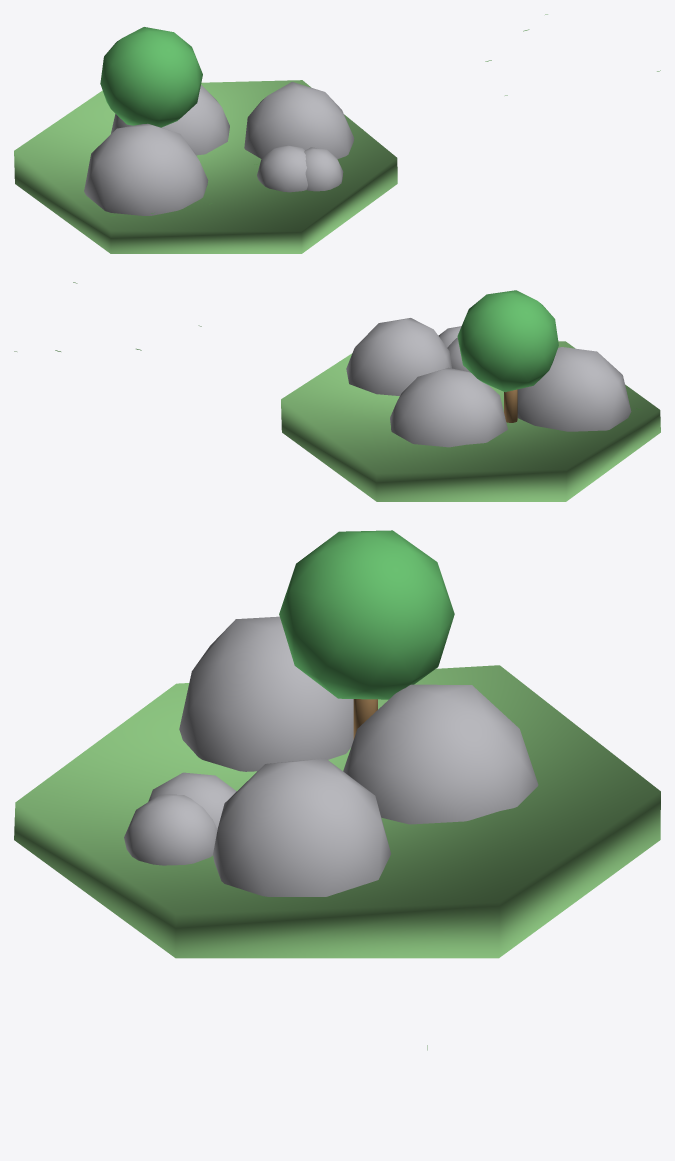
Rendered from grass_v1.glb.
3 renders of one model, top to bottom at view 1: azimuth 30°, elevation 25°; view 2: azimuth 150°, elevation 25°; view 3: azimuth 270°, elevation 25°, orthographic. The views are drawn at different scales.
Parts seen in each view (by area): view 1: grassland_tile_1.004, rock_Icosphere.042, tree_crown_Icosphere.008, rock_Icosphere.044, rock_Icosphere.041, rock_Icosphere.043, rock_Icosphere.040; view 2: grassland_tile_1.004, tree_crown_Icosphere.008, rock_Icosphere.041, rock_Icosphere.042, rock_Icosphere.044, tree_trunk_Cylinder.008, rock_Icosphere.043; view 3: grassland_tile_1.004, tree_crown_Icosphere.008, rock_Icosphere.041, rock_Icosphere.044, rock_Icosphere.042, rock_Icosphere.040, rock_Icosphere.043.
Part boxes in pixels (bbox=[...]): grassland_tile_1.004: bbox=[14, 80, 397, 253]; rock_Icosphere.042: bbox=[84, 123, 208, 215]; tree_crown_Icosphere.008: bbox=[100, 27, 202, 127]; rock_Icosphere.044: bbox=[244, 82, 354, 158]; rock_Icosphere.041: bbox=[111, 85, 229, 155]; rock_Icosphere.043: bbox=[257, 145, 307, 192]; rock_Icosphere.040: bbox=[304, 147, 343, 191]; grassland_tile_1.004: bbox=[281, 341, 660, 501]; tree_crown_Icosphere.008: bbox=[457, 290, 558, 392]; rock_Icosphere.041: bbox=[390, 367, 507, 447]; rock_Icosphere.042: bbox=[517, 347, 631, 431]; rock_Icosphere.044: bbox=[346, 318, 451, 395]; tree_trunk_Cylinder.008: bbox=[504, 389, 517, 422]; rock_Icosphere.043: bbox=[447, 337, 469, 372]; grassland_tile_1.004: bbox=[14, 665, 660, 958]; tree_crown_Icosphere.008: bbox=[279, 530, 454, 699]; rock_Icosphere.041: bbox=[343, 684, 538, 824]; rock_Icosphere.044: bbox=[213, 758, 390, 896]; rock_Icosphere.042: bbox=[179, 616, 353, 771]; rock_Icosphere.040: bbox=[124, 794, 217, 865]; rock_Icosphere.043: bbox=[148, 772, 236, 829].
Bounding box in the file's own units: 1.76 × 0.5311 × 1.02.
